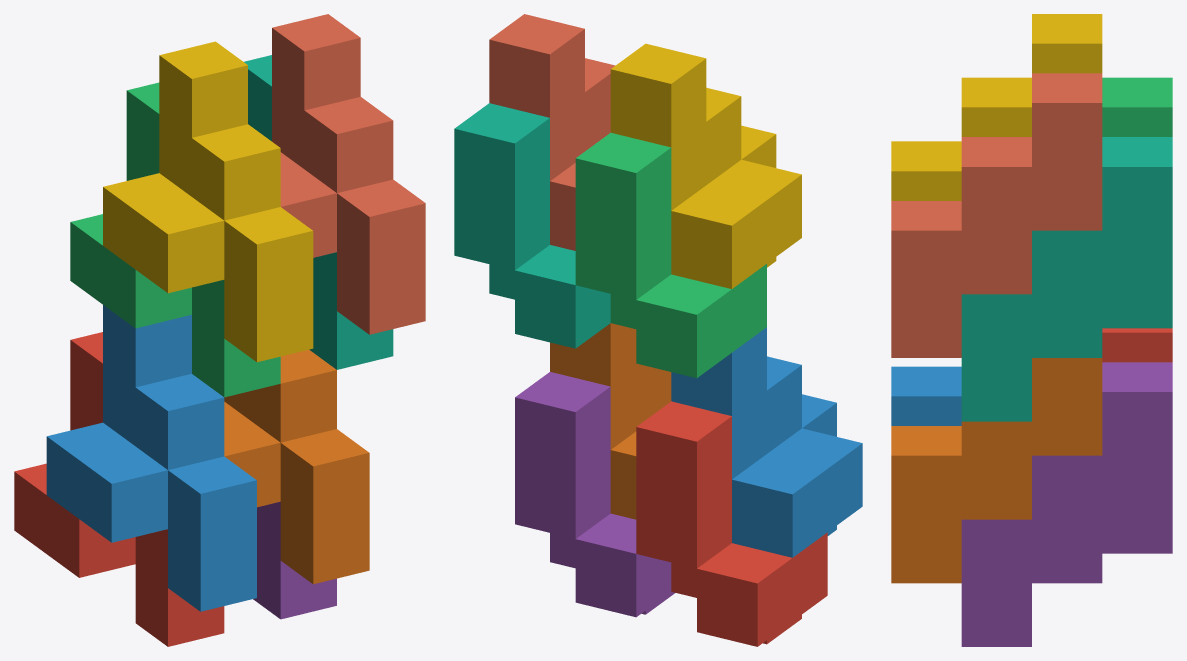
The model's file is tiling.obj.
The picture shows the model from 3 angles, left to right: view 1: azimuth 30°, elevation 25°; view 2: azimuth 150°, elevation 25°; view 3: azimuth 270°, elevation 25°; orthographic projection. The views are drawn at different scales.
Visible parts, largest first — view 1: copy_1_domain_4, copy_1_domain_2, copy_1_domain_8, copy_1_domain_6, copy_1_domain_3, copy_1_domain_1, copy_1_domain_7, copy_1_domain_5; view 2: copy_1_domain_4, copy_1_domain_1, copy_1_domain_3, copy_1_domain_2, copy_1_domain_5, copy_1_domain_7, copy_1_domain_8, copy_1_domain_6; view 3: copy_1_domain_8, copy_1_domain_5, copy_1_domain_7, copy_1_domain_6, copy_1_domain_4, copy_1_domain_2, copy_1_domain_3, copy_1_domain_1.
Part boxes in pixels (bbox=[...]): copy_1_domain_4: bbox=[103, 41, 313, 362]; copy_1_domain_2: bbox=[46, 305, 256, 611]; copy_1_domain_8: bbox=[272, 14, 425, 334]; copy_1_domain_6: bbox=[224, 349, 369, 584]; copy_1_domain_3: bbox=[70, 82, 280, 397]; copy_1_domain_1: bbox=[14, 332, 224, 646]; copy_1_domain_7: bbox=[244, 55, 393, 369]; copy_1_domain_5: bbox=[253, 501, 336, 619]; copy_1_domain_4: bbox=[610, 43, 801, 288]; copy_1_domain_1: bbox=[636, 401, 827, 646]; copy_1_domain_3: bbox=[575, 132, 766, 378]; copy_1_domain_2: bbox=[671, 327, 862, 557]; copy_1_domain_5: bbox=[515, 372, 675, 617]; copy_1_domain_7: bbox=[454, 103, 610, 348]; copy_1_domain_8: bbox=[489, 14, 615, 250]; copy_1_domain_6: bbox=[550, 323, 671, 519]; copy_1_domain_8: bbox=[891, 73, 1102, 357]; copy_1_domain_5: bbox=[961, 362, 1172, 646]; copy_1_domain_7: bbox=[961, 137, 1172, 421]; copy_1_domain_6: bbox=[891, 358, 1102, 583]; copy_1_domain_4: bbox=[891, 14, 1102, 200]; copy_1_domain_2: bbox=[891, 366, 961, 425]; copy_1_domain_3: bbox=[1102, 77, 1172, 136]; copy_1_domain_1: bbox=[1102, 328, 1172, 362].
Size of the model in its own units: 5 by 9 by 4.
